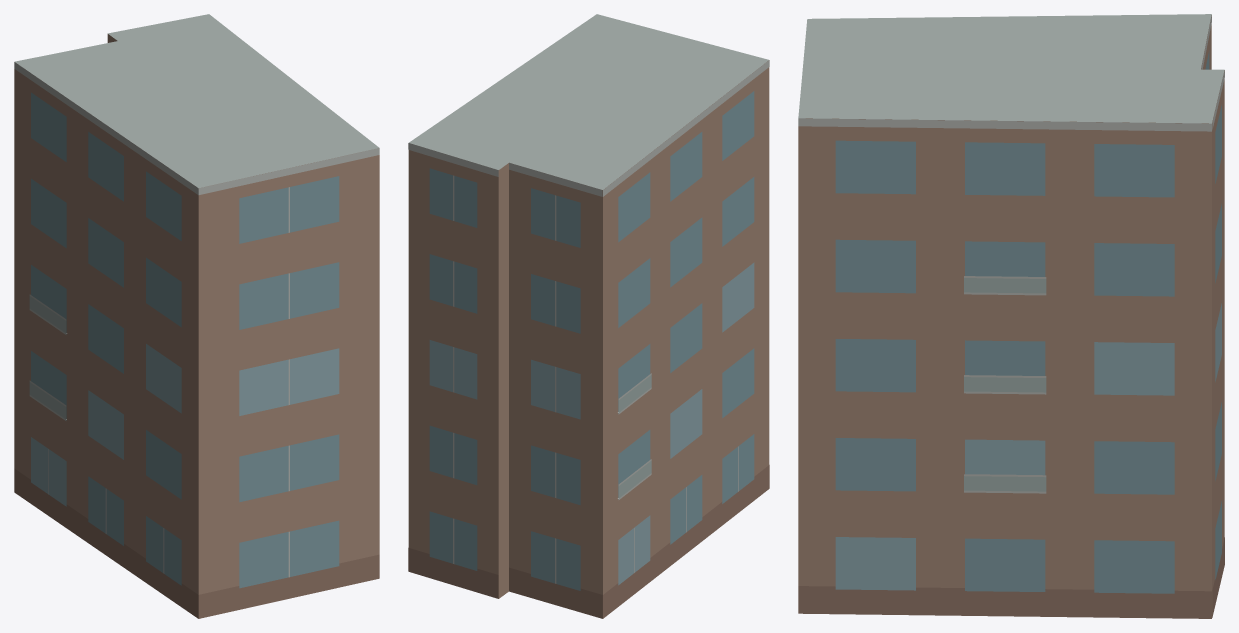
The model's file is survey-upis-32760604.glb.
The picture shows the model from 3 angles, left to right: view 1: azimuth 30°, elevation 25°; view 2: azimuth 150°, elevation 25°; view 3: azimuth 270°, elevation 25°; orthographic projection. The views are drawn at different scales.
Visible parts, largest first — view 1: survey-upis-32760604.tmp; view 2: survey-upis-32760604.tmp; view 3: survey-upis-32760604.tmp.
Part boxes in pixels (box(x1,y1,x2,y2)): survey-upis-32760604.tmp: box(14, 14, 379, 618); survey-upis-32760604.tmp: box(408, 14, 769, 618); survey-upis-32760604.tmp: box(798, 14, 1224, 618).
Bounding box in the file's own units: 7.13 × 15 × 11.71.
